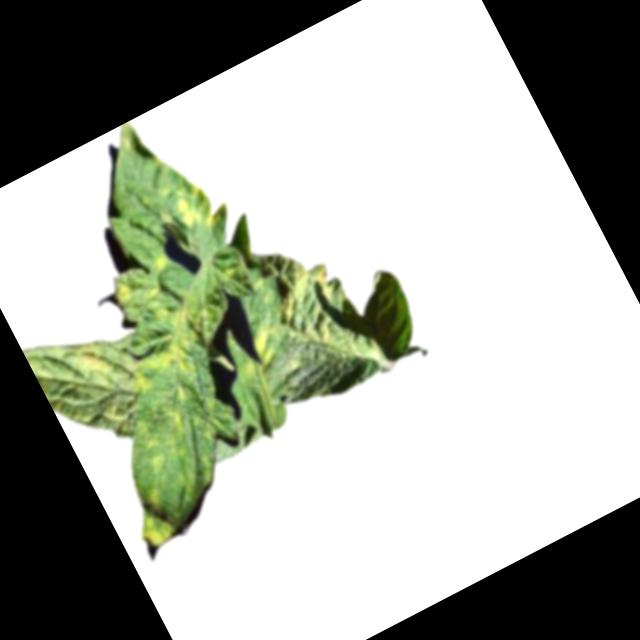Leaf_Mold: (101, 287, 222, 405), (262, 255, 359, 358), (119, 482, 184, 553), (163, 175, 225, 242), (67, 331, 125, 388), (243, 324, 291, 376)
